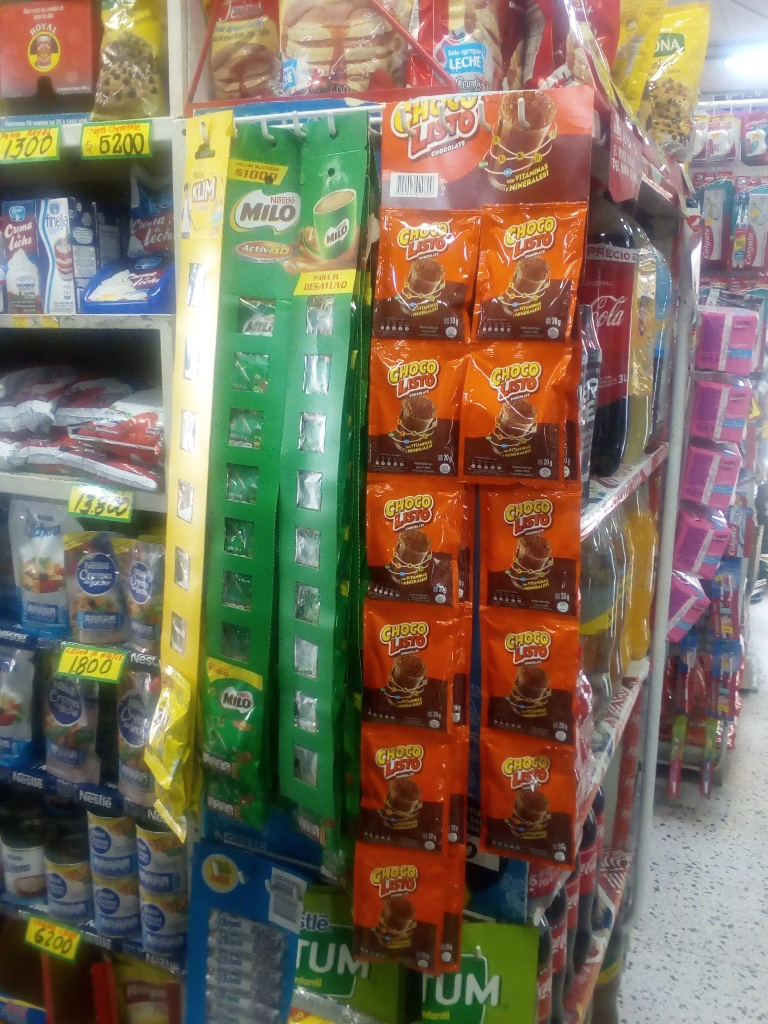COL0170103SOB02000: (383, 207, 475, 339)
